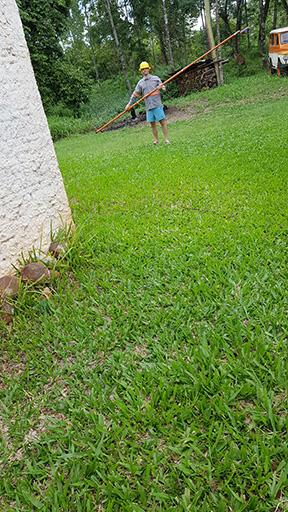Vara_Manobra: (96, 32, 237, 135)
